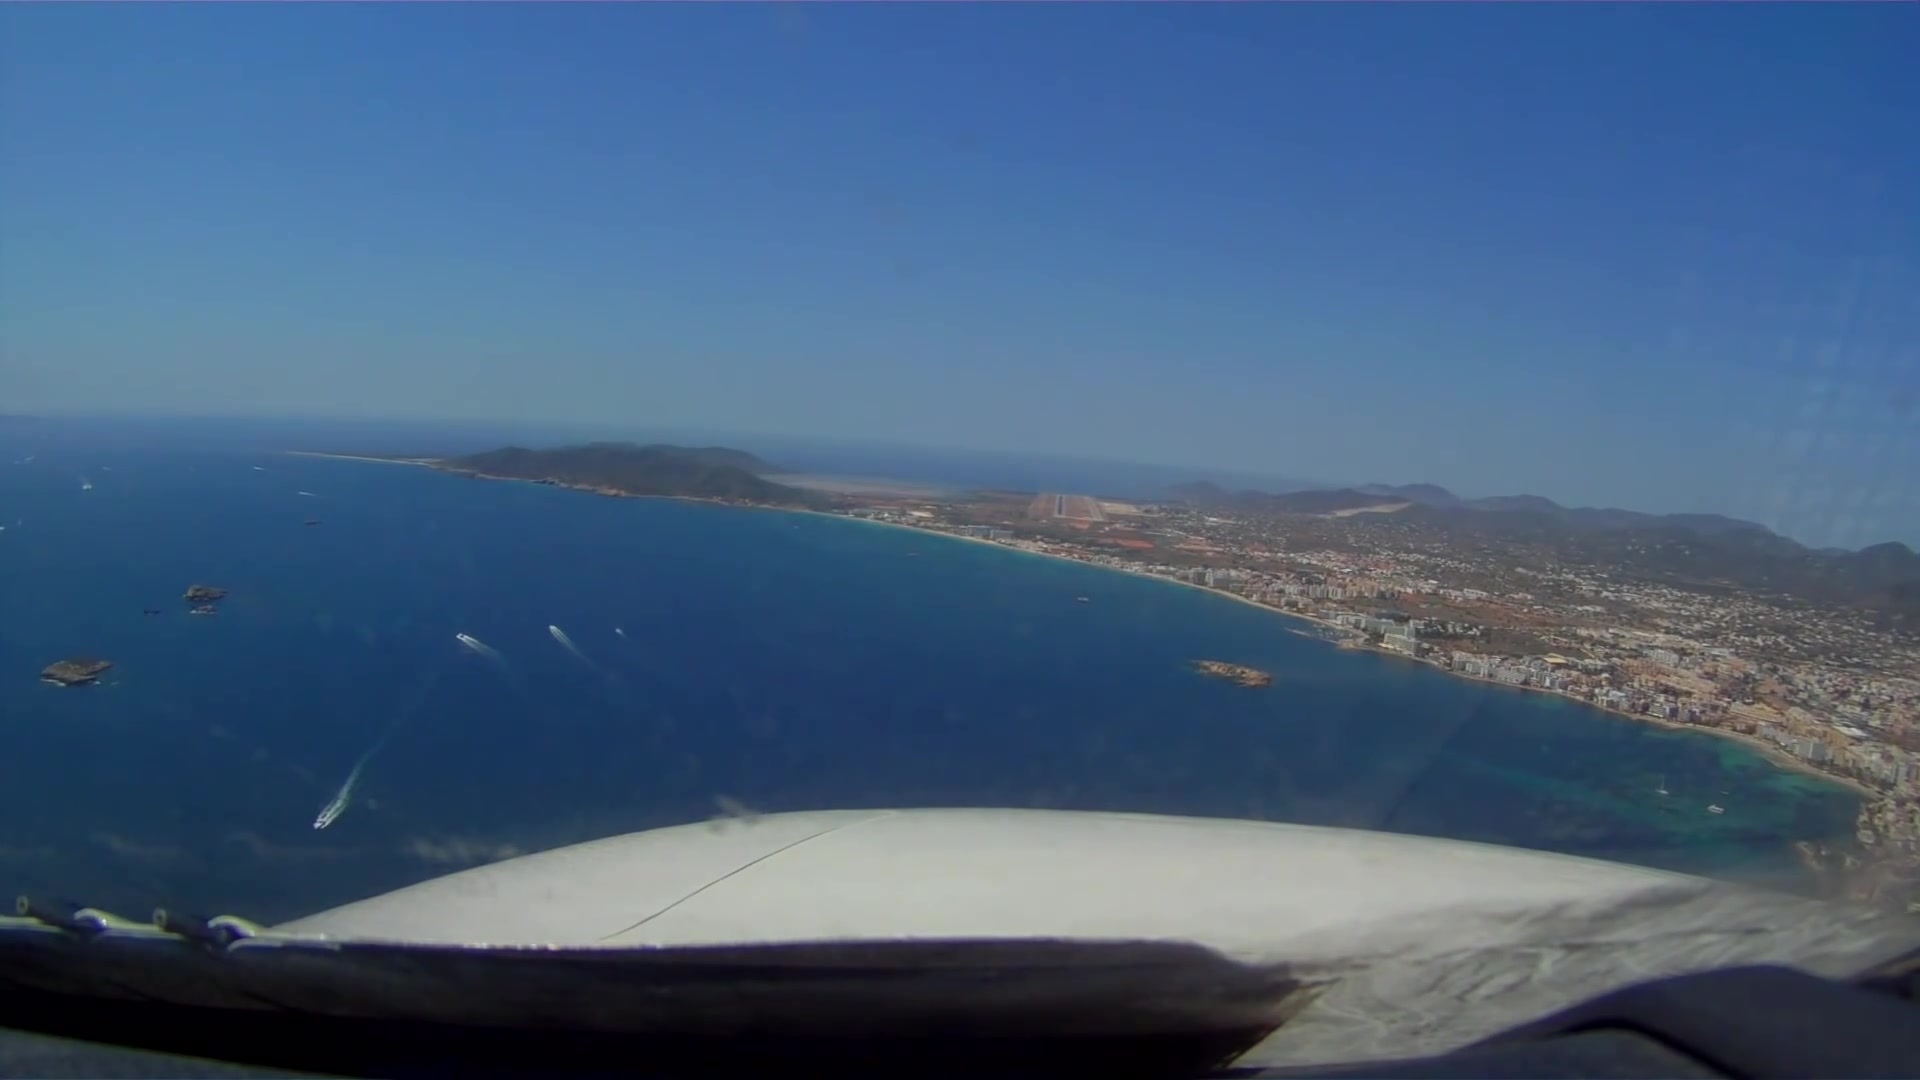runway: (1083, 495, 1108, 522), (1051, 493, 1065, 518)
